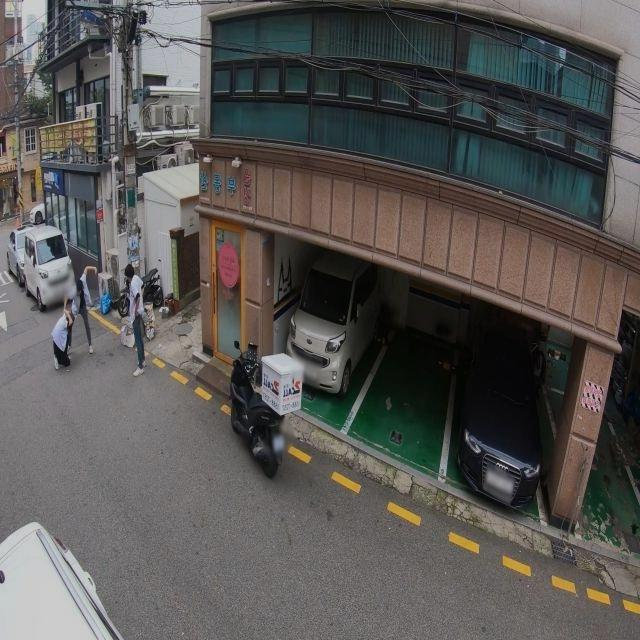fight: (51, 264, 96, 369)
non-fight: (123, 263, 148, 375)
